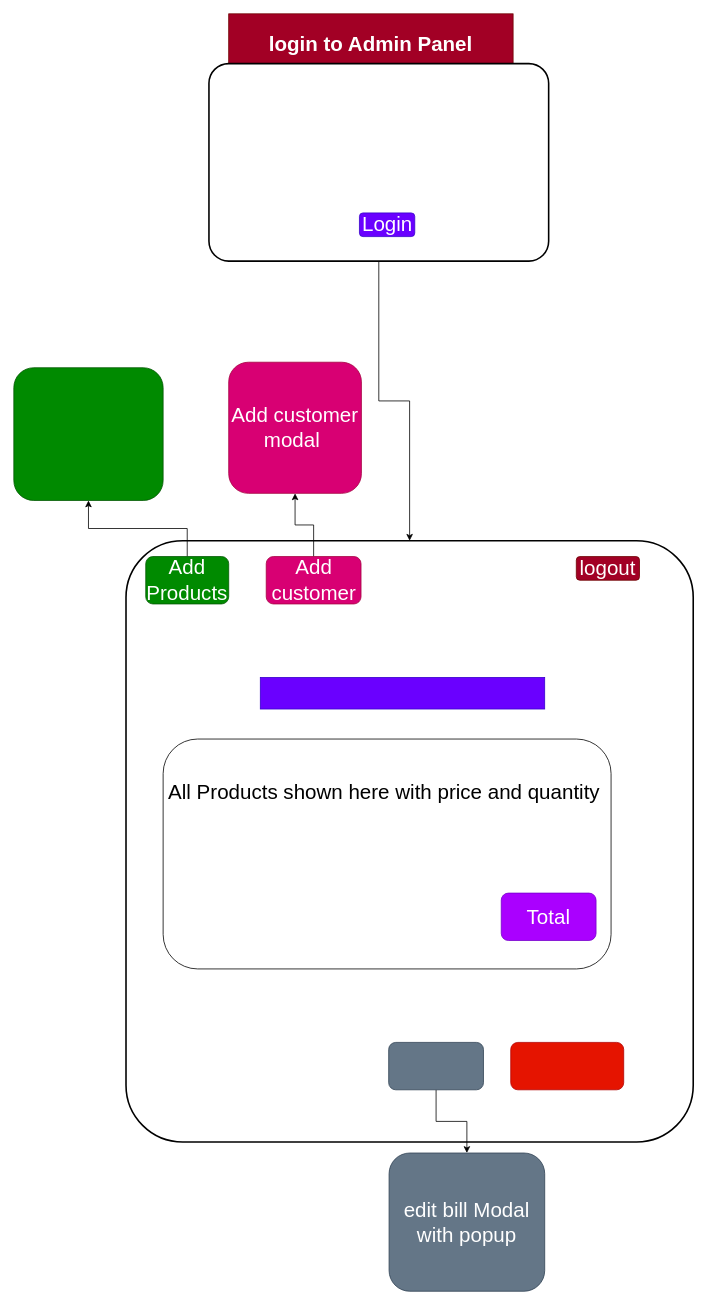
Image size: 708x1305. Some labels were removed from this diagram. The centre of each missing label's shape, as x and y in pixels:
"add products modal popup to add products" goes at (x=88, y=433).
"Edit Bill" goes at (x=435, y=1066).
"print Invoice" goes at (x=567, y=1066).
"Welcome to Admin Panel" goes at (x=402, y=693).
